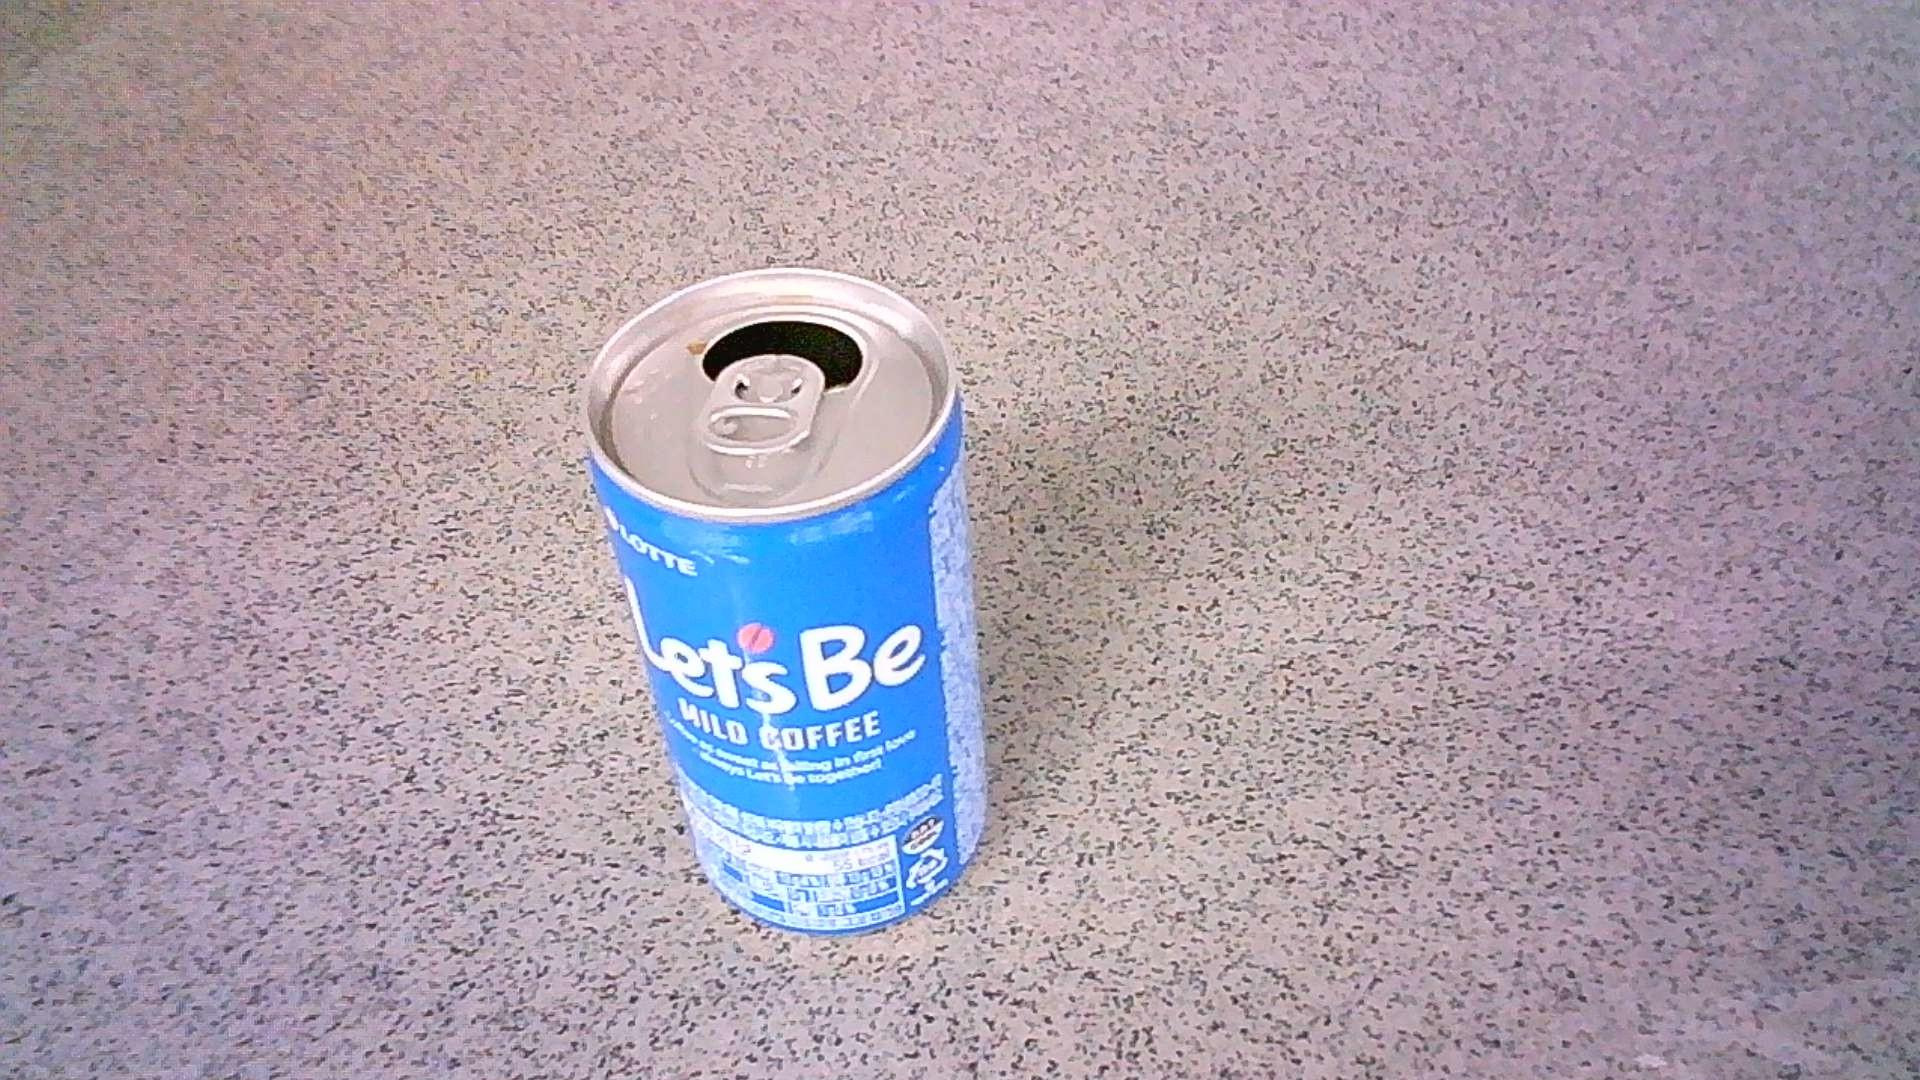letsbe: (582, 268, 990, 935)
